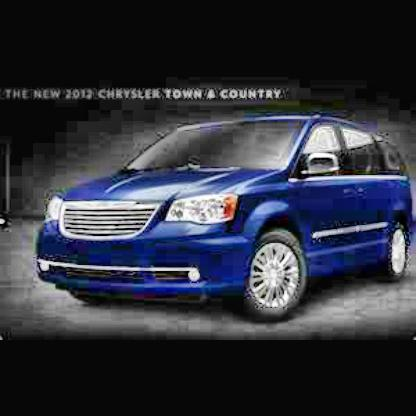Chrysler Town and Country Minivan 2012: (40, 115, 416, 328)
